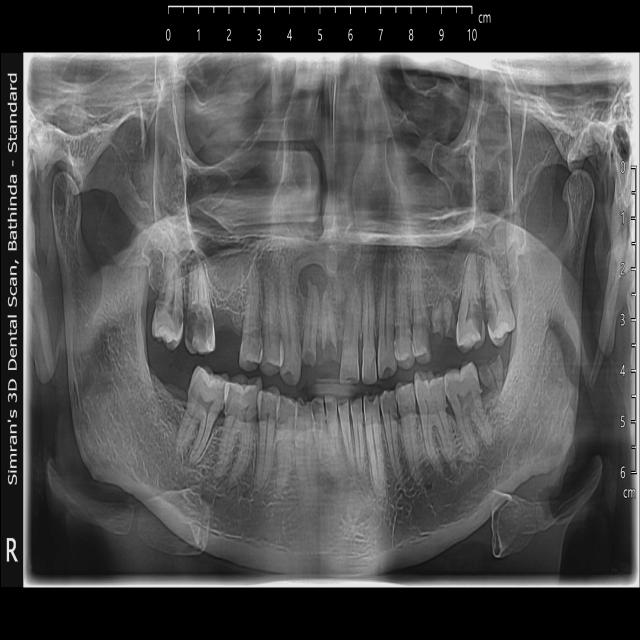Caries: (153, 298, 185, 345), (485, 295, 511, 342), (185, 303, 210, 347), (411, 319, 433, 364), (379, 341, 396, 378), (467, 302, 484, 338), (380, 390, 398, 418)
Missing teeth: (148, 358, 188, 429), (217, 288, 238, 352)
Periapical lesion: (298, 264, 326, 297)
Root Piece: (430, 283, 456, 348), (315, 295, 336, 357), (300, 292, 316, 362), (482, 359, 504, 391)
